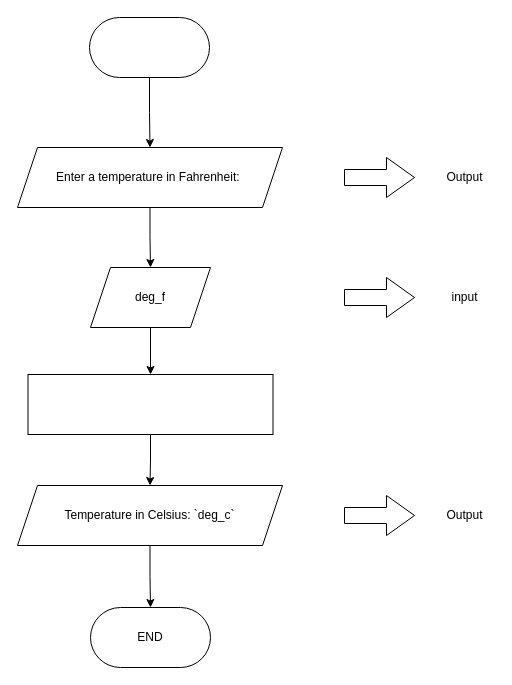
This 512x685 diagram has some shape labels left out. Here are the shapes that lost their labels. From the top down, the centre of each, then its label:
point 149,47: Main
point 150,404: deg_c = (deg_f - 32) * (5/9)
